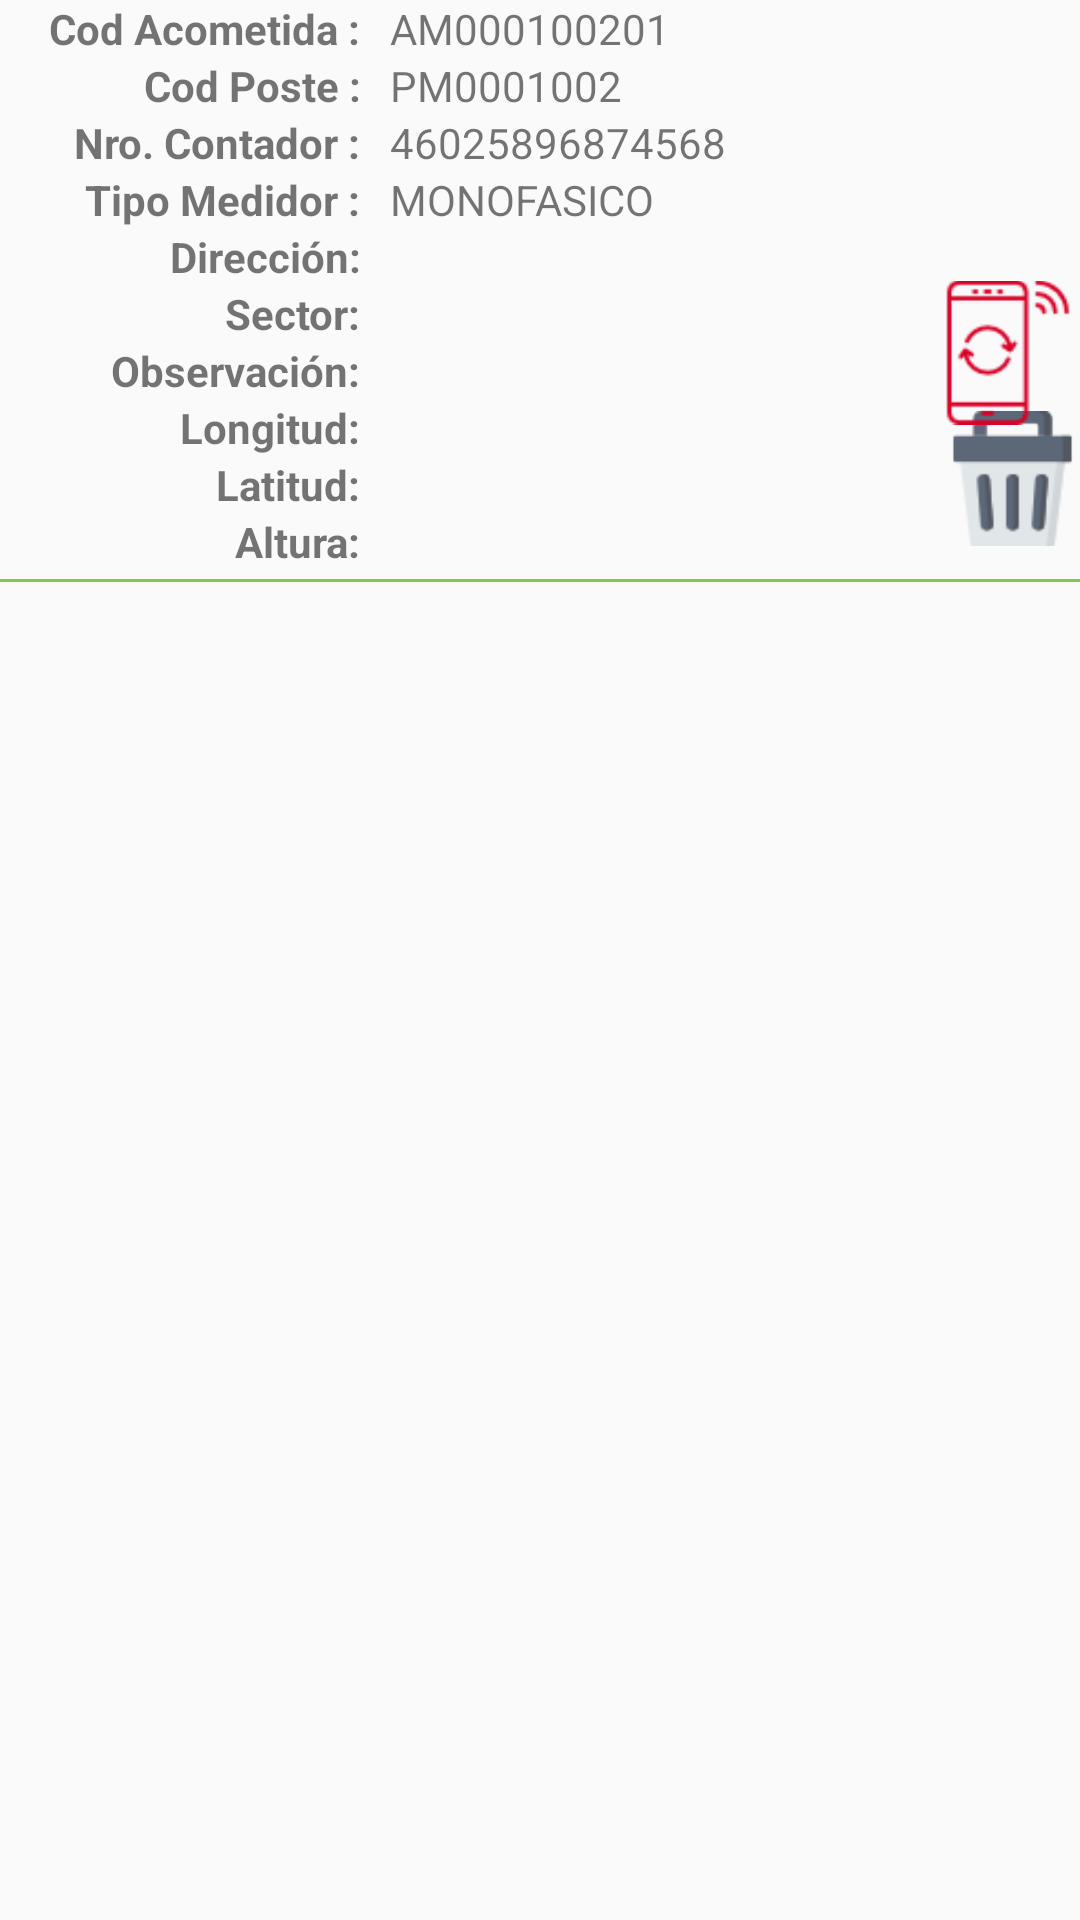

Icon click points for this 1080w x 1920h phone screenshot, format (x,y):
borrar: (1009,472)
sinc movil: (1009,365)
